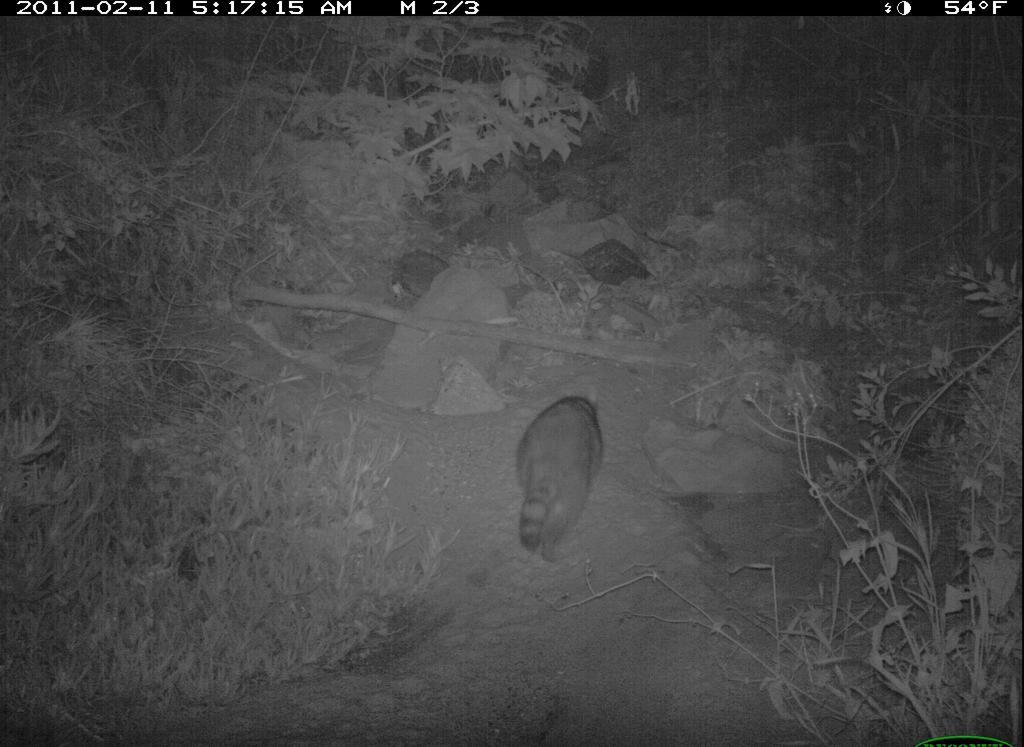raccoon: (498, 372, 619, 578)
